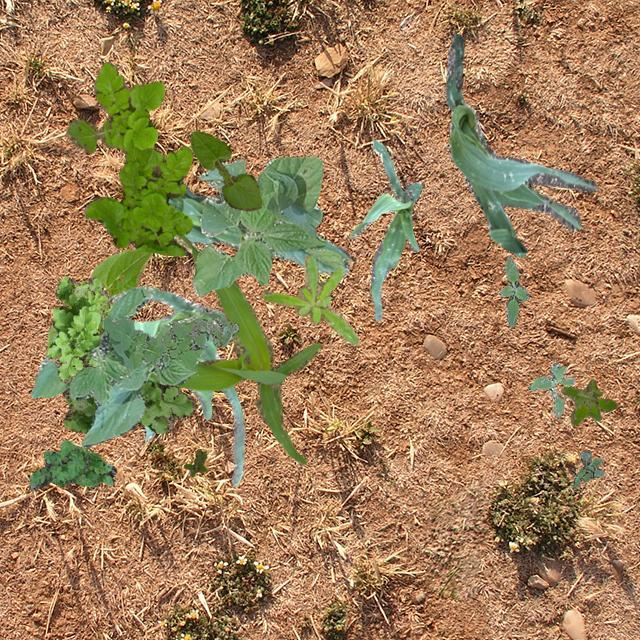crop: (147, 232, 320, 463), (444, 32, 598, 256), (30, 286, 214, 447), (133, 286, 245, 484), (190, 156, 348, 294), (166, 184, 354, 260), (348, 138, 421, 320), (46, 248, 150, 348), (190, 130, 262, 210)
weed: (65, 61, 192, 254), (100, 306, 238, 371), (260, 253, 358, 344), (61, 377, 196, 432), (46, 276, 112, 382), (29, 438, 116, 489), (560, 378, 616, 424), (528, 362, 574, 418), (498, 256, 528, 326), (572, 449, 602, 488), (182, 448, 205, 476)
